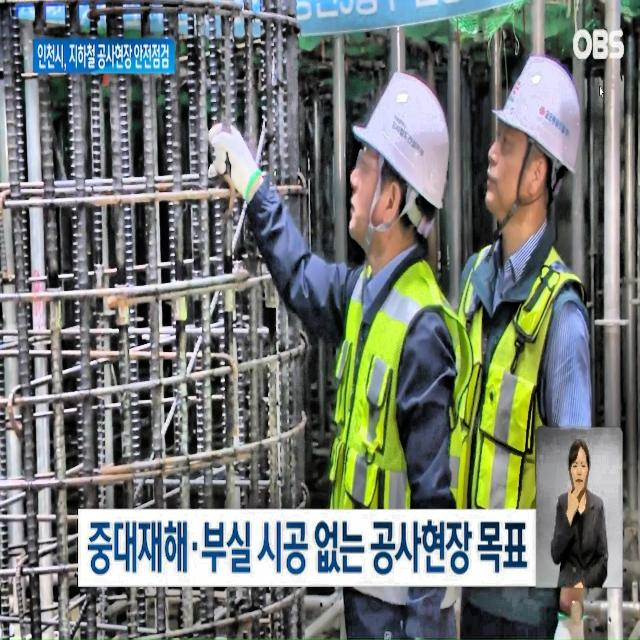safety_helmet: (358, 64, 456, 220), (493, 60, 590, 168)
safety_jacket: (324, 264, 456, 563), (469, 249, 583, 570)
